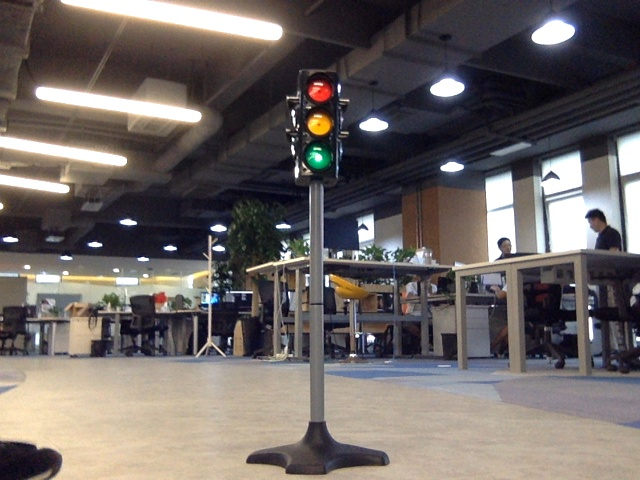green: (300, 81, 336, 173)
